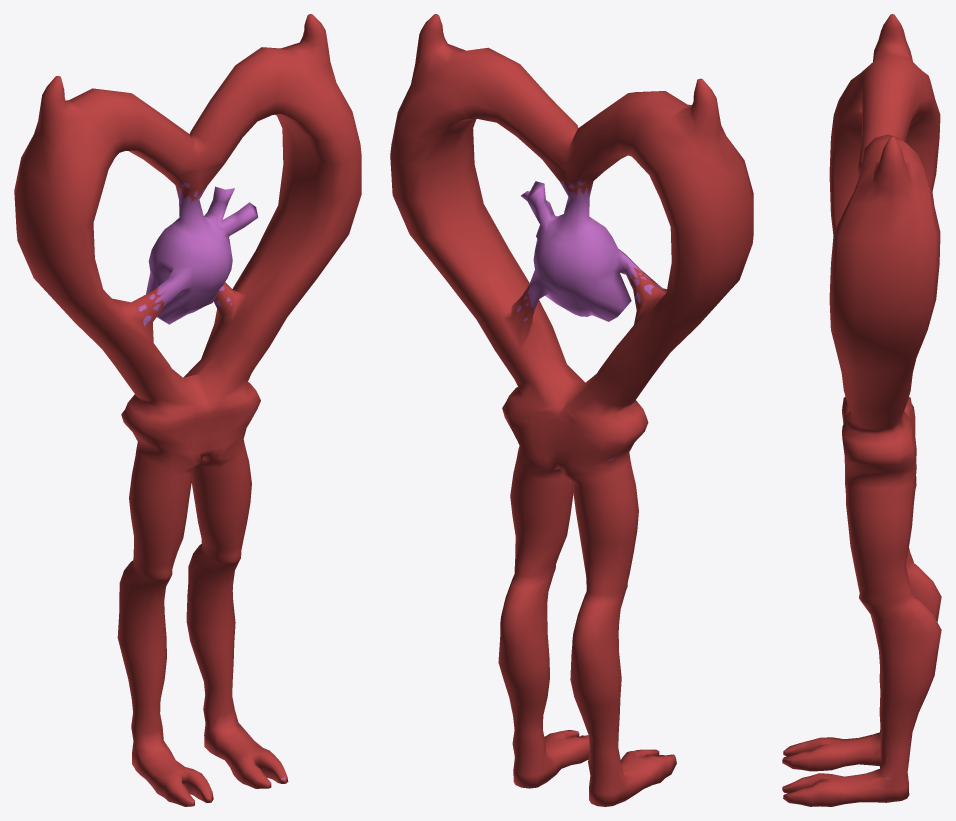
Rendered from lusttextured.fbx.
3 renders of one model, left to right at view 1: azimuth 30°, elevation 25°; view 2: azimuth 150°, elevation 25°; view 3: azimuth 270°, elevation 25°, orthographic. The views are drawn at different scales.
Parts seen in each view (by area): view 1: Sphere; view 2: Sphere; view 3: Sphere.
Part boxes in pixels (x1,y1,x2,y2): Sphere: (14, 14, 361, 806); Sphere: (390, 14, 753, 806); Sphere: (782, 14, 941, 806).
Size of the model in its own units: 842 by 1777 by 364.
Materials: 1 (1 with a texture image).
